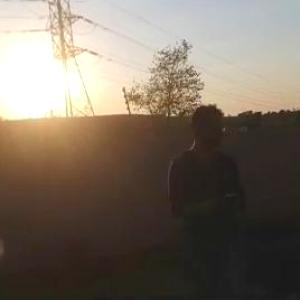follow: (158, 91, 254, 299)
